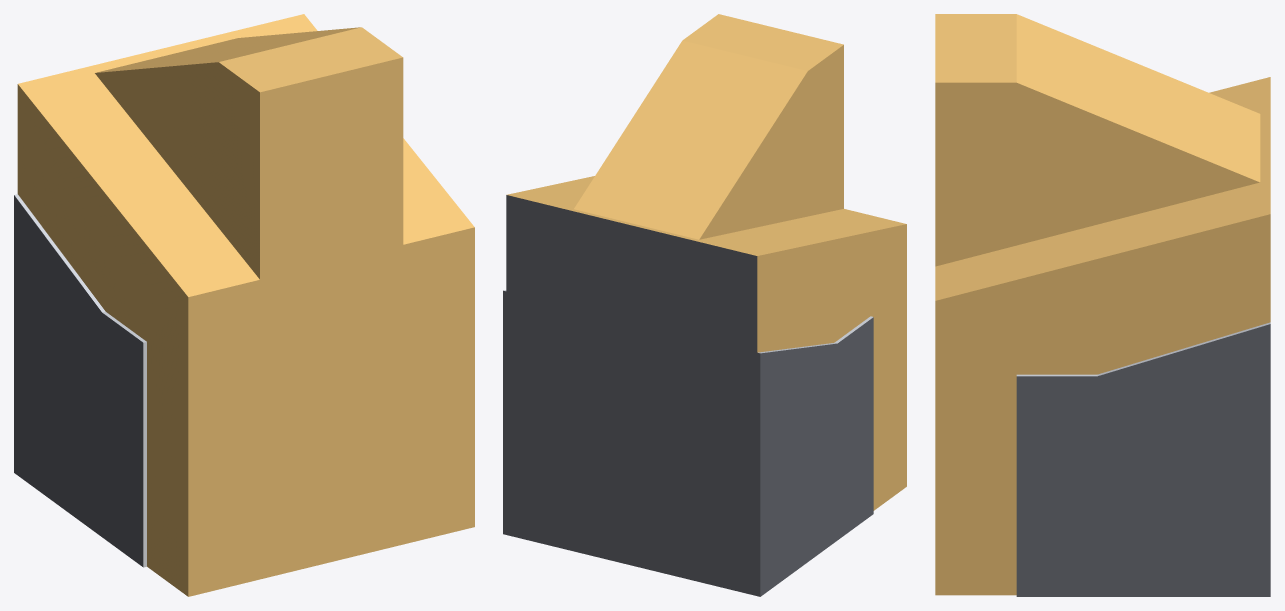
File: tail.glb
3 renders of one model, left to right at view 1: azimuth 30°, elevation 25°; view 2: azimuth 150°, elevation 25°; view 3: azimuth 270°, elevation 25°, orthographic. The views are drawn at different scales.
Bounding box in the file's own units: 0.82 × 1.3 × 0.8257.
